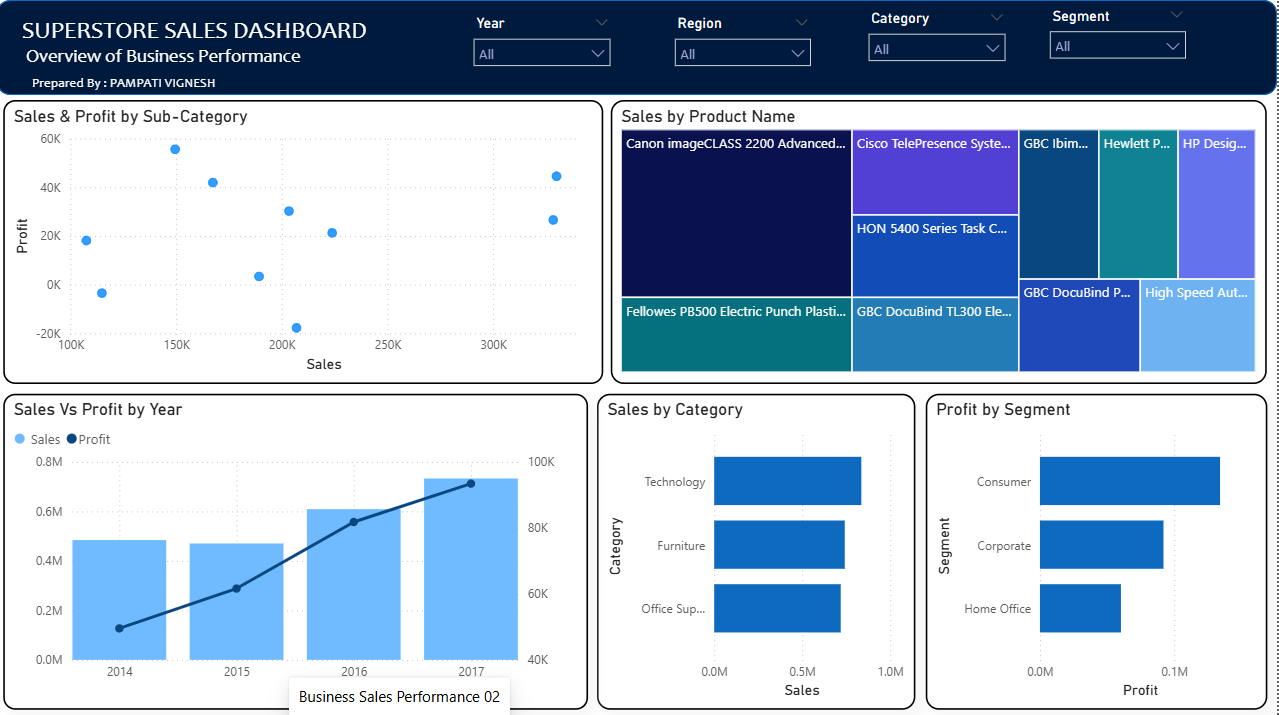

This screenshot's page, from the dashboard's own definition file:
{"tool":"powerbi","page":{"name":" Business Sales Performance 02","canvas":[1280,720],"ordinal":1},"visuals":[{"type":"clusteredBarChart","fields":{"Y":["Sum(Sample - Superstore.Sales)"],"Category":["Sample - Superstore.Category"]},"box":[600,393.8,318.8,316.2],"z":0},{"type":"clusteredBarChart","fields":{"Y":["Sum(Sample - Superstore.Profit)"],"Category":["Sample - Superstore.Segment"]},"box":[928.8,393.8,341.2,316.2],"z":1000},{"type":"scatterChart","title":" Sales & Profit by Sub-Category","fields":{"Y":["Sum(Sample - Superstore.Profit)"],"X":["Sum(Sample - Superstore.Sales)"],"Category":["Sample - Superstore.Sub-Category"]},"box":[6.2,100,600,283.8],"z":2000},{"type":"treemap","fields":{"Group":["Sample - Superstore.Product Name"],"Values":["Sum(Sample - Superstore.Sales)"]},"box":[613.8,100,656.2,283.8],"z":3000},{"type":"lineClusteredColumnComboChart","title":" Sales Vs Profit by Year","fields":{"Category":["Sample - Superstore.order .Variation.Date Hierarchy.Year","Sample - Superstore.order .Variation.Date Hierarchy.Month"],"Y":["Sum(Sample - Superstore.Sales)"],"Y2":["Sum(Sample - Superstore.Profit)"]},"box":[6.2,393.8,585,316.2],"z":4000},{"type":"shape","box":[0,0,1280,95],"z":5000},{"type":"slicer","fields":{"Values":["Sample - Superstore.order .Variation.Date Hierarchy.Year"]},"box":[466.2,10,157.5,90],"z":6000},{"type":"slicer","fields":{"Values":["Sample - Superstore.Region"]},"box":[667.5,10,156.2,90],"z":7000},{"type":"slicer","fields":{"Values":["Sample - Superstore.Category"]},"box":[861.2,5,157.5,90],"z":8000},{"type":"slicer","fields":{"Values":["Sample - Superstore.Segment"]},"box":[1042.5,2.5,156.2,90],"z":9000},{"type":"textbox","box":[20,10,413.3,45],"z":10000},{"type":"textbox","box":[20,40,318.8,32.5],"z":11000},{"type":"textbox","box":[30,67.5,300,27.5],"z":11002}]}

Visuals, with their boxes in screenshot pixels (x1, y1, x2, y2), scaled from the page's 1280x720 canvas onto the 1279x715 screenshot:
clusteredBarChart - Sum(Sample - Superstore.Sales) x Sample - Superstore.Category: bbox=[600, 391, 918, 705]
clusteredBarChart - Sum(Sample - Superstore.Profit) x Sample - Superstore.Segment: bbox=[928, 391, 1269, 705]
" Sales & Profit by Sub-Category" scatterChart: bbox=[6, 99, 606, 381]
treemap - Sample - Superstore.Product Name x Sum(Sample - Superstore.Sales): bbox=[613, 99, 1269, 381]
" Sales Vs Profit by Year" lineClusteredColumnComboChart: bbox=[6, 391, 591, 705]
shape: bbox=[0, 0, 1278, 94]
slicer - Sample - Superstore.order .Variation.Date Hierarchy.Year: bbox=[466, 10, 623, 99]
slicer - Sample - Superstore.Region: bbox=[667, 10, 823, 99]
slicer - Sample - Superstore.Category: bbox=[861, 5, 1018, 94]
slicer - Sample - Superstore.Segment: bbox=[1042, 2, 1198, 92]
textbox: bbox=[20, 10, 433, 55]
textbox: bbox=[20, 40, 339, 72]
textbox: bbox=[30, 67, 330, 94]
